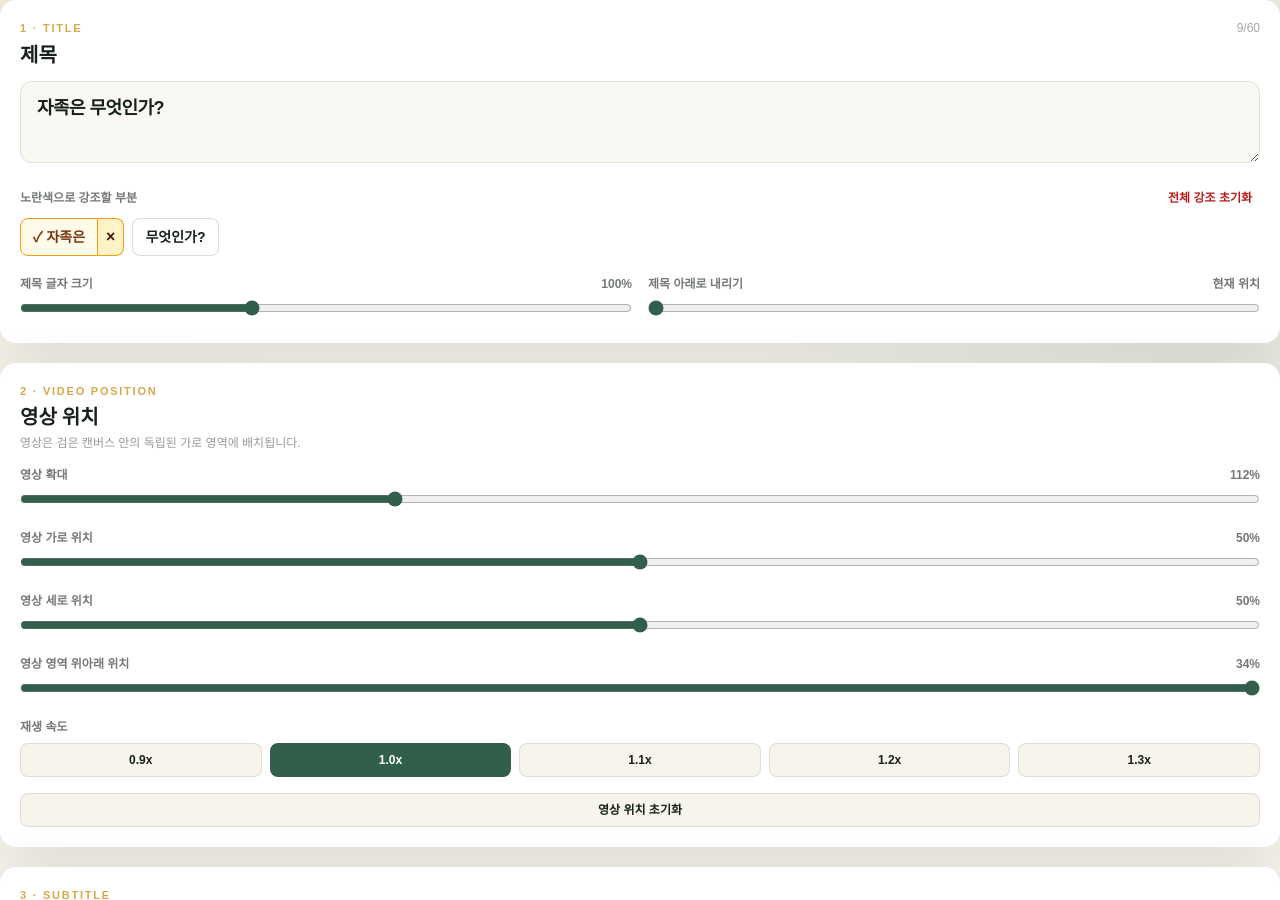
clears highlights with one notice only when the title actually changes
Set the slider labelled "영상 확대" to "1.2": (640, 499) [20,491,1260,507]
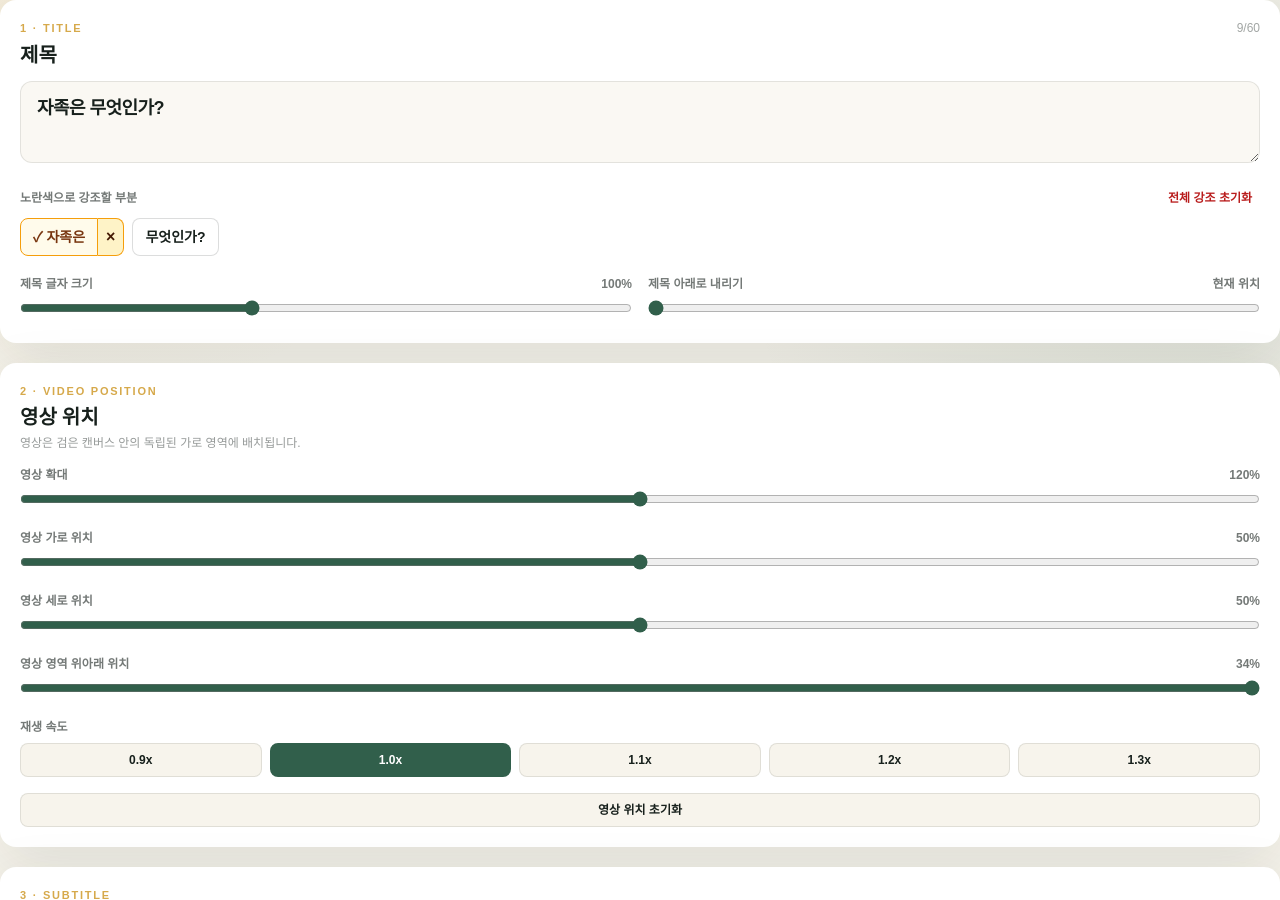
Expected: the button with aria-label "자족은, 일부 글자 강조됨" is shown, [20,218,98,256]
Replace the text in the text box named "쇼츠 큰 제목" with "바뀐 제목": (640, 122) [20,80,1260,162]
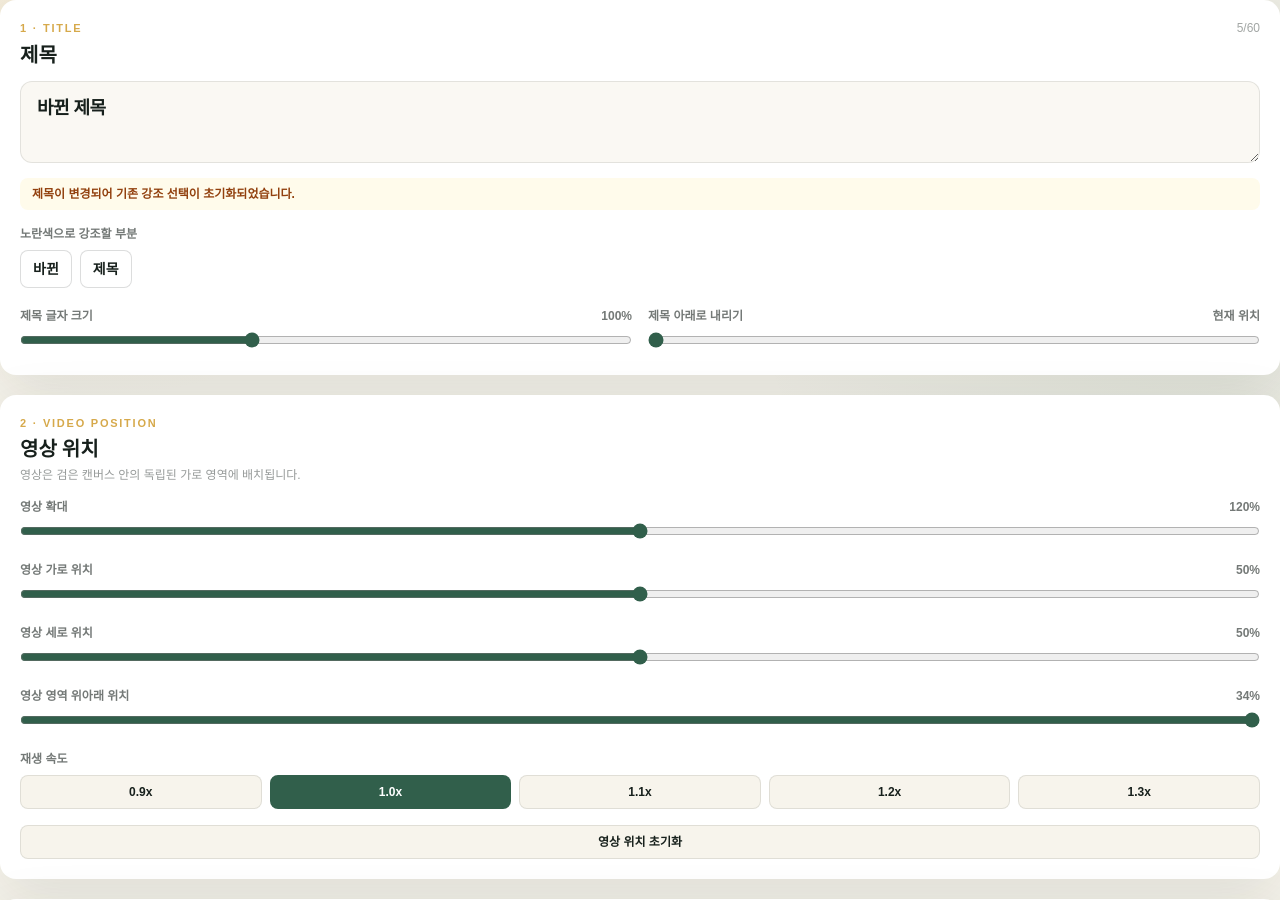
Expected: the message reads "제목이 변경되어 기존 강조 선택이 초기화되었습니다.", [32,186,295,200]
Expected: the button with aria-label "바뀐, 강조 안 됨" is shown, [20,250,72,288]
